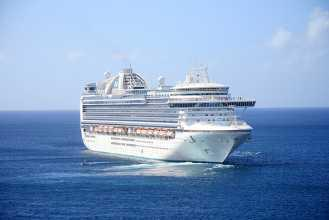youlun: (80, 61, 257, 163)
